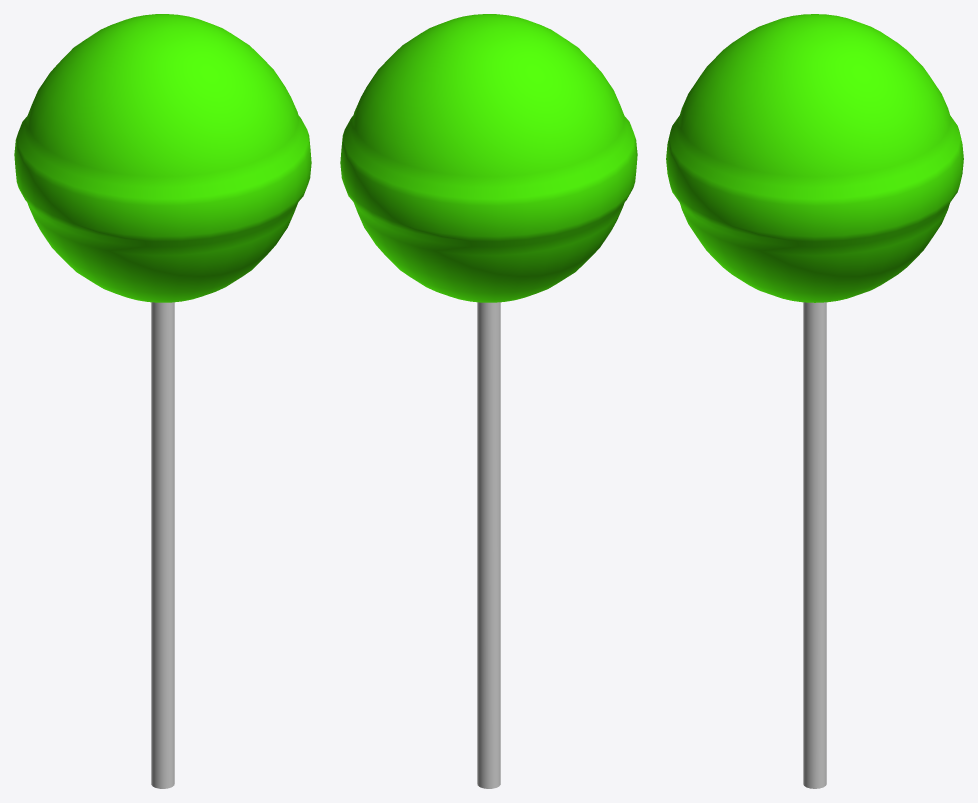
File: Lolipop_green.fbx
The picture shows the model from 3 angles, left to right: view 1: azimuth 30°, elevation 25°; view 2: azimuth 150°, elevation 25°; view 3: azimuth 270°, elevation 25°; orthographic projection.
Parts seen in each view (by area): view 1: Head, Stick; view 2: Head, Stick; view 3: Head, Stick.
Boxes of the visible parts, <box> form: Head: <box>14,14,311,302</box>; Stick: <box>151,302,174,788</box>; Head: <box>340,14,637,302</box>; Stick: <box>477,302,500,788</box>; Head: <box>666,14,963,302</box>; Stick: <box>803,302,826,788</box>.
Bounding box in the file's own units: 3.01 × 8.45 × 3.01.
